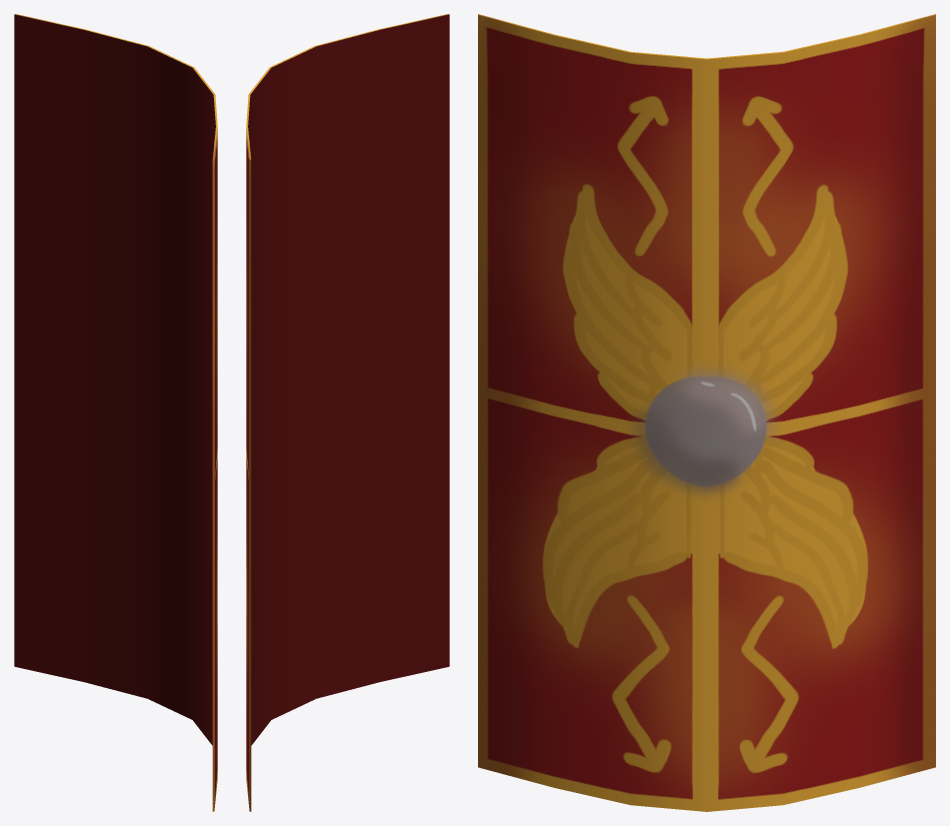
The model's file is ScutumStyleShield.fbx.
3 views of the same model, side by side, from view 1: azimuth 30°, elevation 25°; view 2: azimuth 150°, elevation 25°; view 3: azimuth 270°, elevation 25° (orthographic). The views are drawn at different scales.
Parts seen in each view (by area): view 1: Shield; view 2: Shield; view 3: Shield.
Part boxes in pixels (bbox=[...]): Shield: bbox=[14, 14, 217, 811]; Shield: bbox=[246, 14, 449, 811]; Shield: bbox=[478, 14, 935, 811].
Size of the model in its own units: 0.7685 by 5.92 by 3.27.
